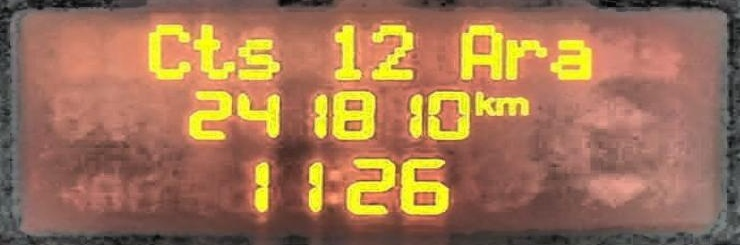0: (426, 87, 471, 141)
1: (326, 19, 364, 82), (246, 156, 276, 214), (300, 155, 326, 215), (401, 89, 424, 140), (306, 89, 328, 140)
2: (340, 154, 394, 217), (366, 20, 416, 82), (185, 87, 233, 141)
4: (234, 89, 282, 139)
6: (397, 155, 452, 216)
8: (330, 87, 378, 140)
X: (455, 20, 503, 82), (143, 19, 190, 82), (190, 20, 235, 82), (550, 35, 596, 84), (237, 35, 282, 83), (503, 37, 548, 82), (470, 88, 496, 117), (497, 94, 529, 117)
